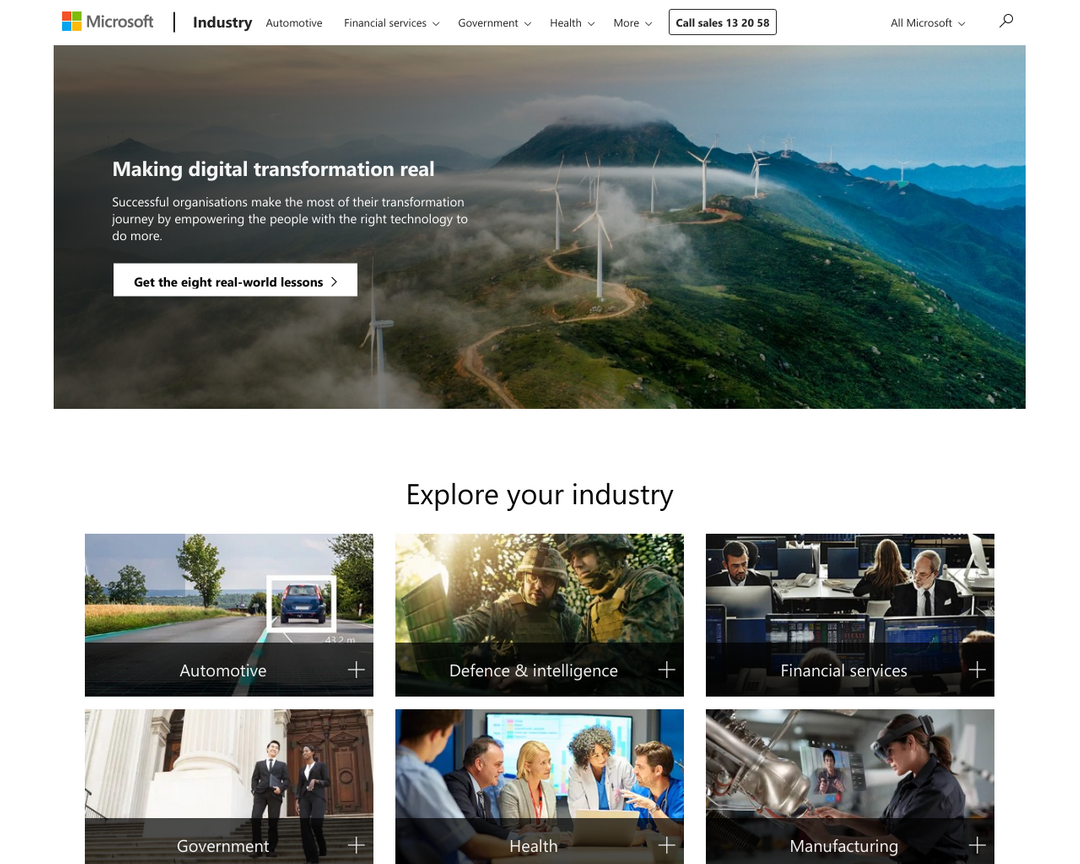Microsoft: (56, 7, 85, 37)
